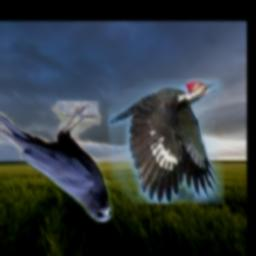Crow: (0, 101, 114, 222)
Woodpecker: (108, 79, 224, 204)
